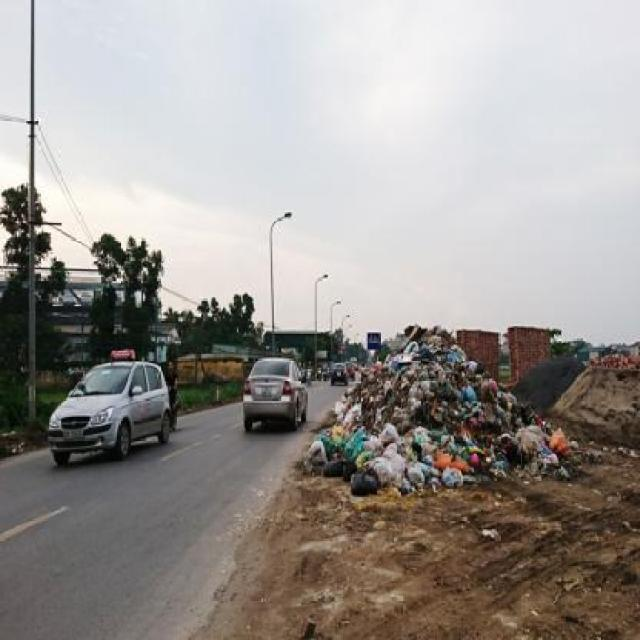plastic bag: (300, 318, 595, 510)
